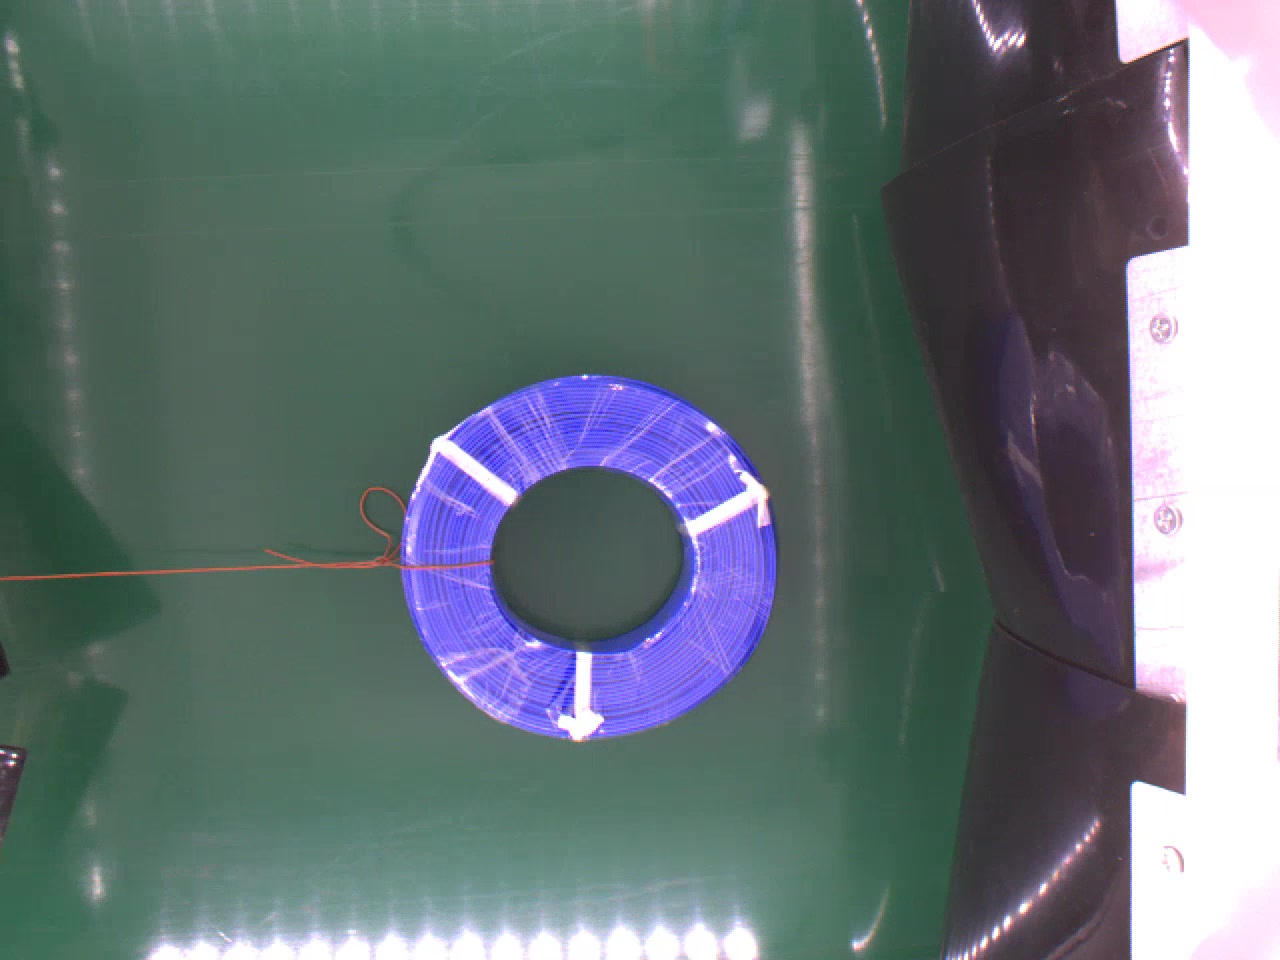blue: (392, 378, 769, 737)
